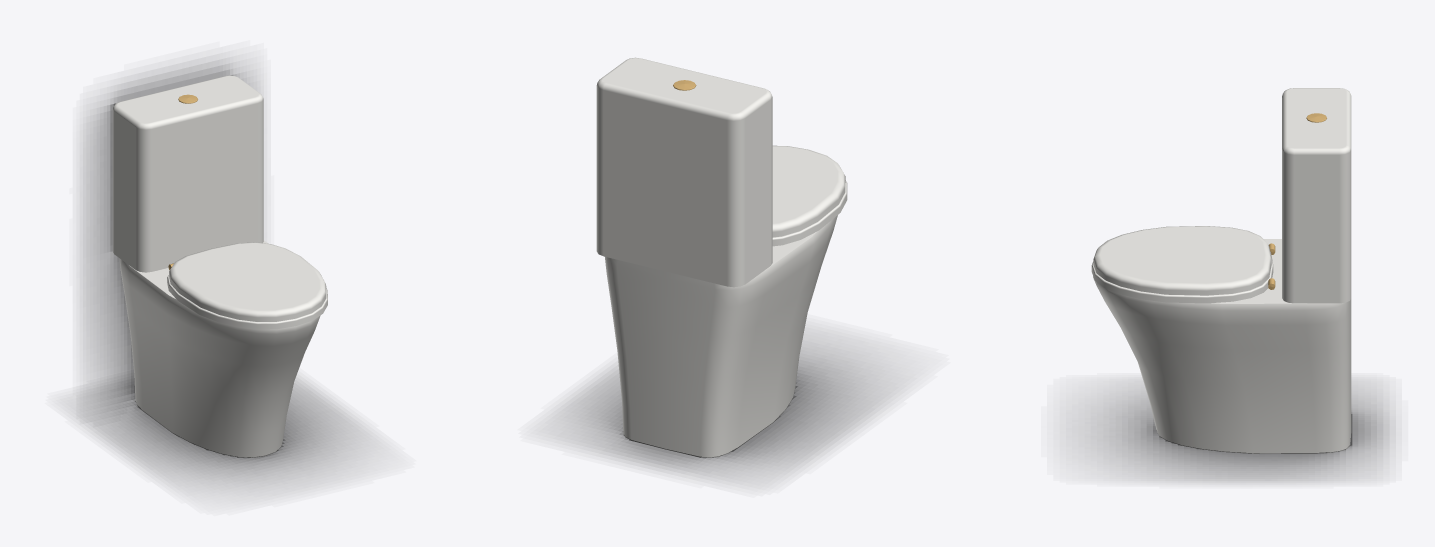
The model's file is toilet.glb.
3 views of the same model, side by side, from view 1: azimuth 30°, elevation 25°; view 2: azimuth 150°, elevation 25°; view 3: azimuth 270°, elevation 25° (orthographic). The views are drawn at different scales.
Parts seen in each view (by area): view 1: toilet_LOD0, toilet_Shadow; view 2: toilet_LOD0, toilet_Shadow; view 3: toilet_LOD0, toilet_Shadow.
Boxes of the visible parts, left/top/right/bottom form: toilet_LOD0: left=112, top=75, right=327, bottom=457; toilet_Shadow: left=76, top=58, right=365, bottom=489; toilet_LOD0: left=596, top=57, right=847, bottom=457; toilet_Shadow: left=557, top=337, right=891, bottom=479; toilet_LOD0: left=1091, top=88, right=1351, bottom=453; toilet_Shadow: left=1084, top=383, right=1389, bottom=482.
Size of what is drawn, in the model's own units: 0.686 by 1.04 by 0.92.
Materials: 4 (2 with a texture image).
